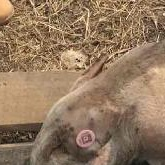text: (69, 122, 105, 158)
